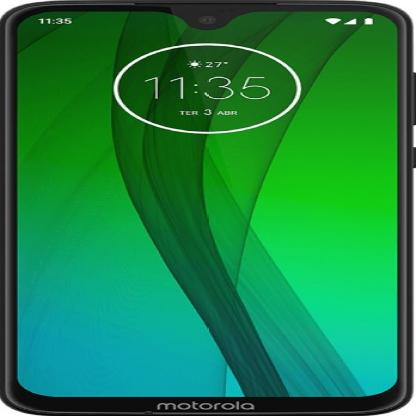SMARTPHONE: (6, 1, 416, 416)
